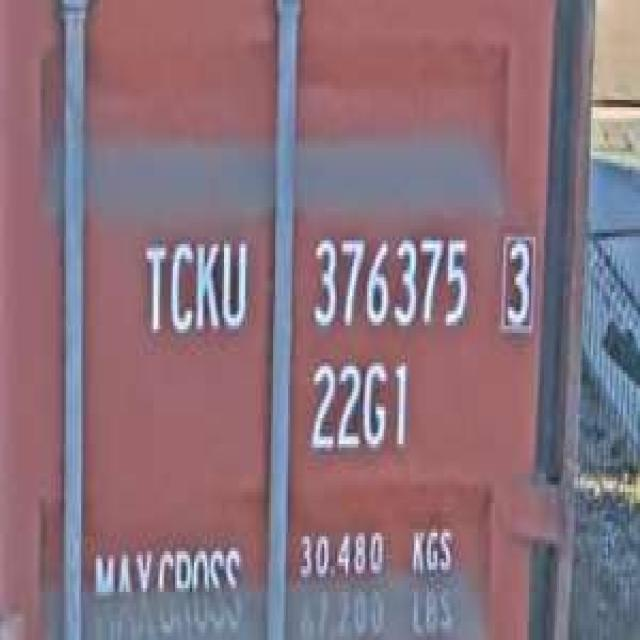dv: (493, 222, 540, 337)
owner: (136, 222, 252, 344)
serial: (305, 226, 474, 336)
size: (305, 352, 414, 466)
